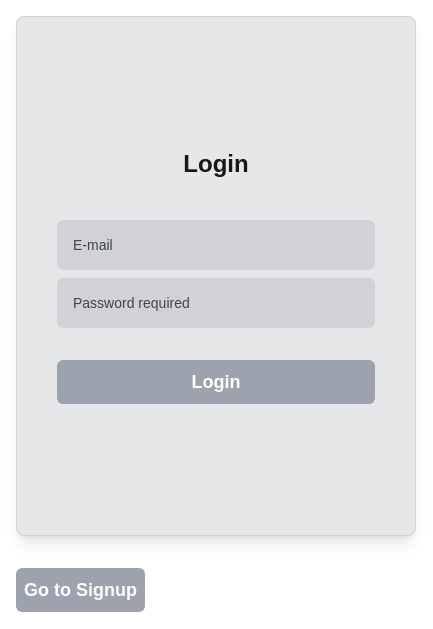
Test case: Login Page › should not allow login without password
The image size is (433, 629).
Type "test@reqres.in" into the field named "email" at (216, 245), box [57,220,375,270]
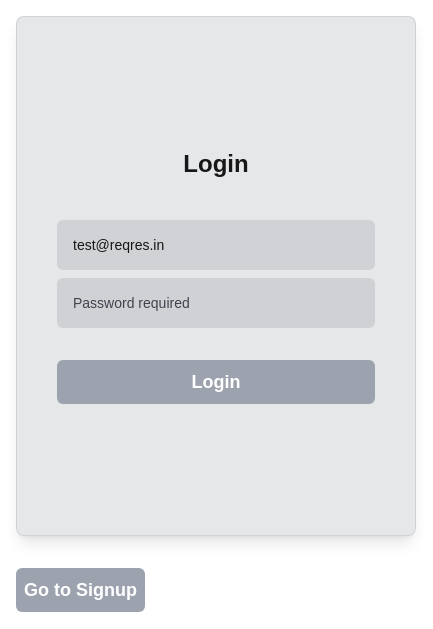
Click the submit button at (216, 382), box [57,360,375,404]
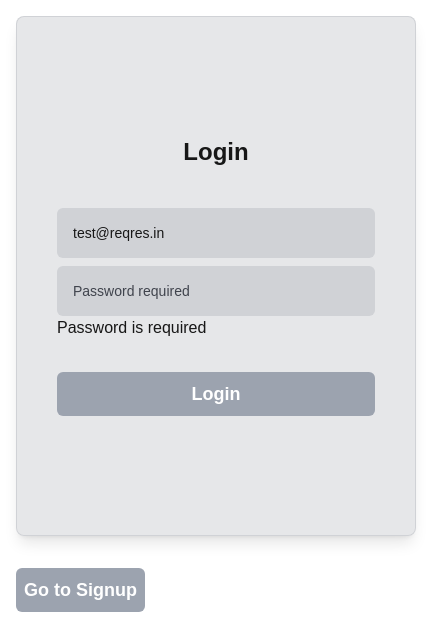
Expected: the text "Password is required" is shown, [57,319,206,336]
